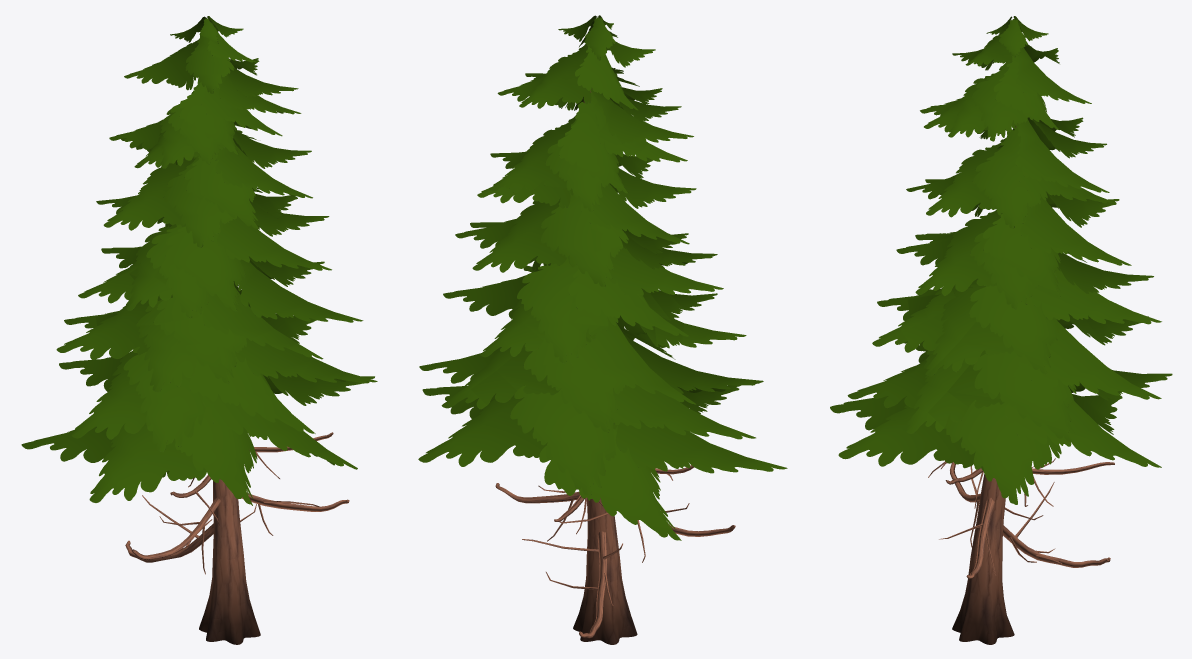
Rendered from Pine_4.gltf.
3 renders of one model, left to right at view 1: azimuth 30°, elevation 25°; view 2: azimuth 150°, elevation 25°; view 3: azimuth 270°, elevation 25°, orthographic. The views are drawn at different scales.
Visible parts, largest first — view 1: Pine_4; view 2: Pine_4; view 3: Pine_4.
Boxes of the visible parts, box(x1,y1,x2,y2) form: Pine_4: box(21, 16, 377, 644); Pine_4: box(418, 15, 787, 644); Pine_4: box(830, 16, 1172, 644).
Bounding box in the file's own units: 5.8 × 10.24 × 5.37.
Materials: 2 (2 with a texture image).
